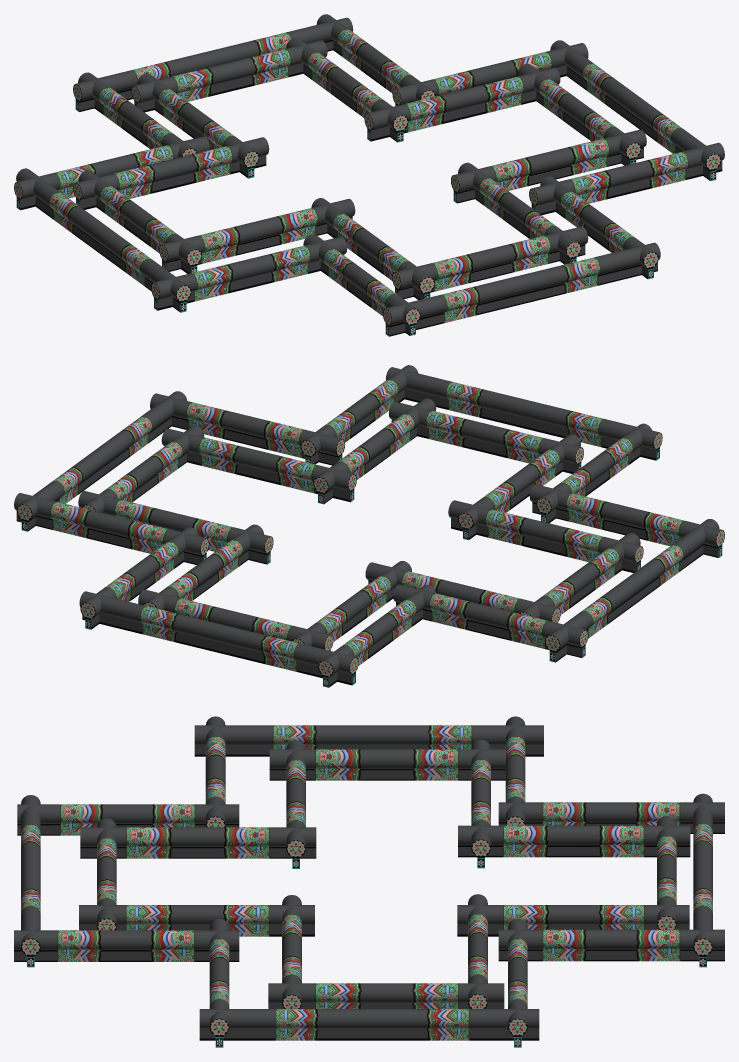
File: SM_Song_Jong_Dori.fbx
The picture shows the model from 3 angles, top to bottom: view 1: azimuth 30°, elevation 25°; view 2: azimuth 150°, elevation 25°; view 3: azimuth 270°, elevation 25°; orthographic projection. The views are drawn at different scales.
Parts seen in each view (by area): view 1: SM_Song_Jong_Dori; view 2: SM_Song_Jong_Dori; view 3: SM_Song_Jong_Dori.
Part boxes in pixels (x1=…): SM_Song_Jong_Dori: x1=14, y1=14, x2=724, y2=336; SM_Song_Jong_Dori: x1=14, y1=365, x2=724, y2=687; SM_Song_Jong_Dori: x1=14, y1=716, x2=724, y2=1047.
Size of the model in its own units: 957 by 42.91 by 951.
